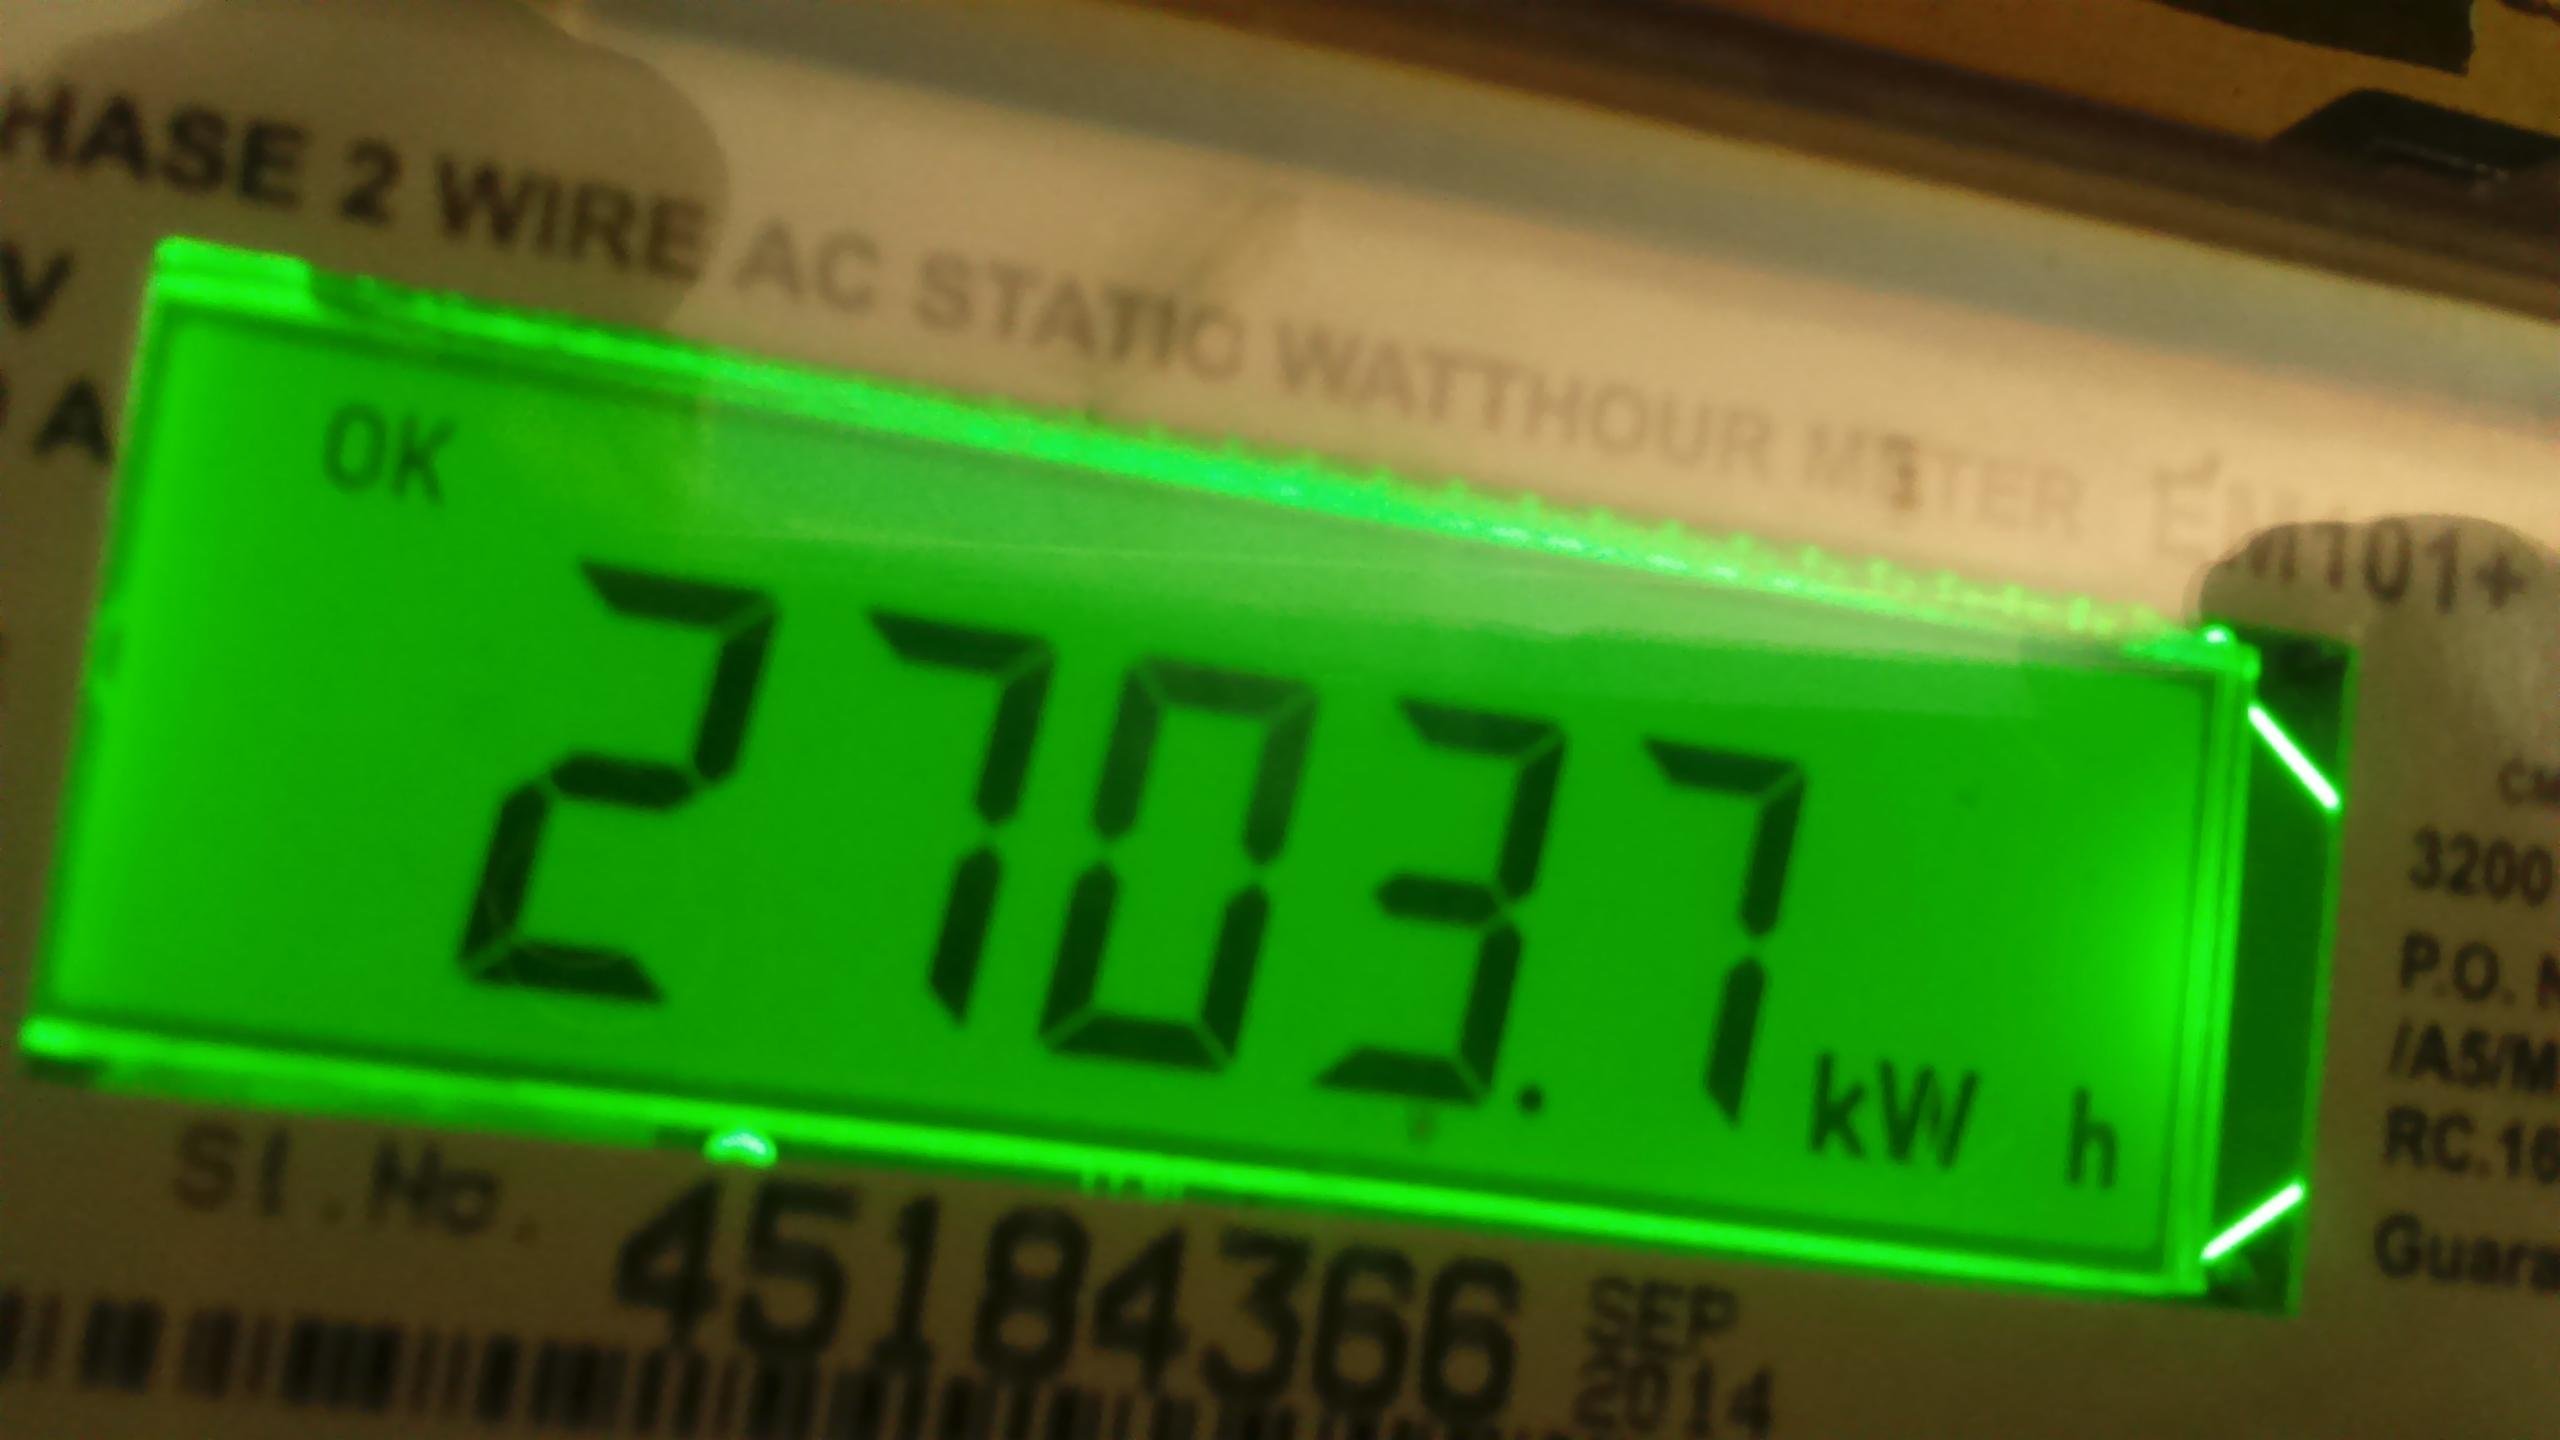.: (1794, 1039, 2141, 1204)
0: (1464, 1053, 1592, 1149)
1: (1052, 603, 1334, 1119)
3: (438, 543, 822, 1022)
4: (1294, 673, 1667, 1132)
8: (817, 533, 1078, 1062), (1634, 673, 1917, 1132)
